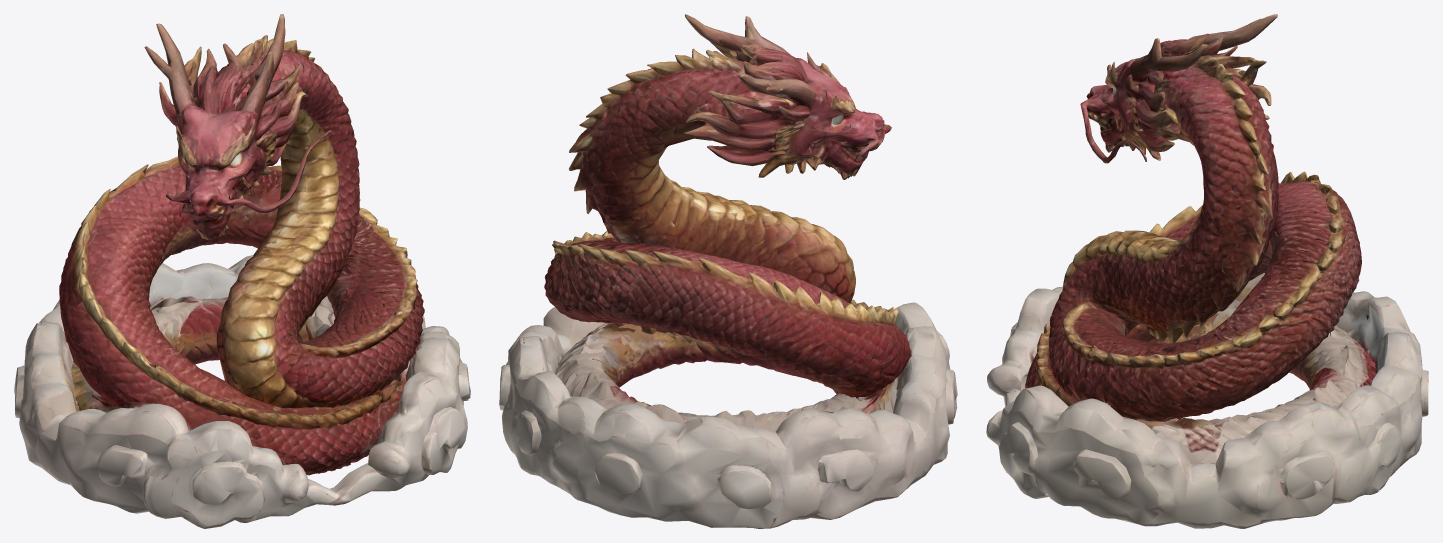
The model's file is zhulong-dragon.glb.
The picture shows the model from 3 angles, left to right: view 1: azimuth 30°, elevation 25°; view 2: azimuth 150°, elevation 25°; view 3: azimuth 270°, elevation 25°; orthographic projection.
Parts seen in each view (by area): view 1: geometry_0; view 2: geometry_0; view 3: geometry_0.
Part boxes in pixels (box(x1,y1,x2,y2)): geometry_0: box(14, 14, 470, 528); geometry_0: box(499, 14, 957, 528); geometry_0: box(986, 14, 1428, 528).
Bounding box in the file's own units: 0.5197 × 0.5192 × 0.5024.
Materials: 1 (1 with a texture image).
